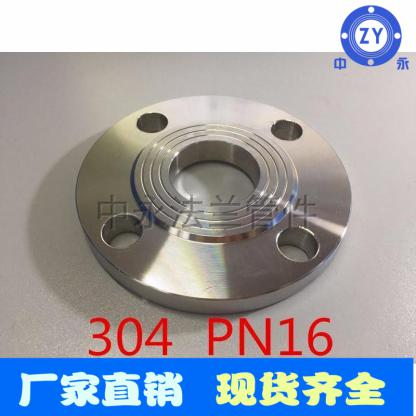FOD: (67, 90, 356, 322)
